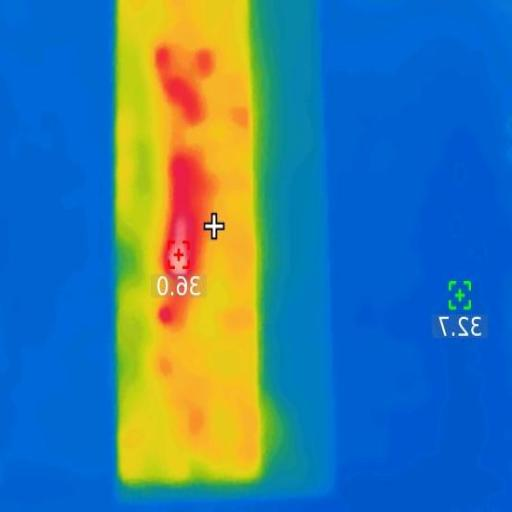hotspot: (164, 160, 196, 280), (192, 54, 212, 78), (168, 88, 198, 104), (158, 307, 173, 330)
